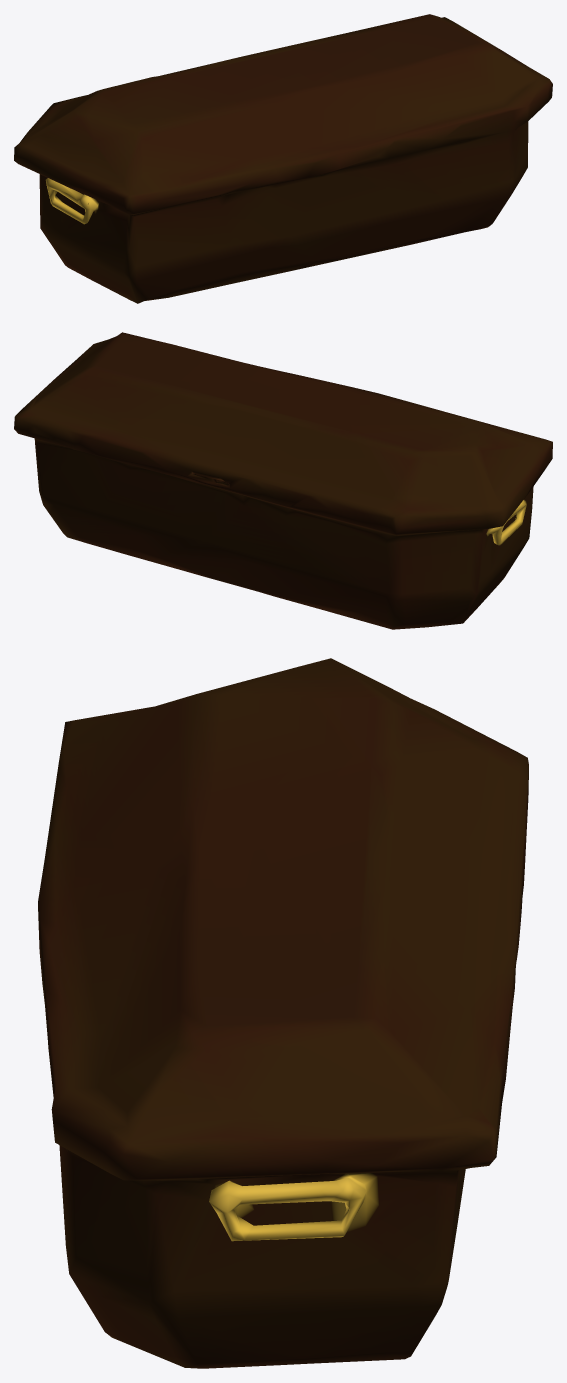
Rendered from gen3d-coffin-lod0.glb.
The picture shows the model from 3 angles, top to bottom: view 1: azimuth 30°, elevation 25°; view 2: azimuth 150°, elevation 25°; view 3: azimuth 270°, elevation 25°; orthographic projection. The views are drawn at different scales.
Parts seen in each view (by area): view 1: part_0; view 2: part_0; view 3: part_0.
Part boxes in pixels (x1=…): part_0: x1=14, y1=14, x2=552, y2=303; part_0: x1=14, y1=332, x2=552, y2=629; part_0: x1=38, y1=658, x2=528, y2=1368.
Size of the model in its own units: 3.01 by 0.9996 by 1.36.
